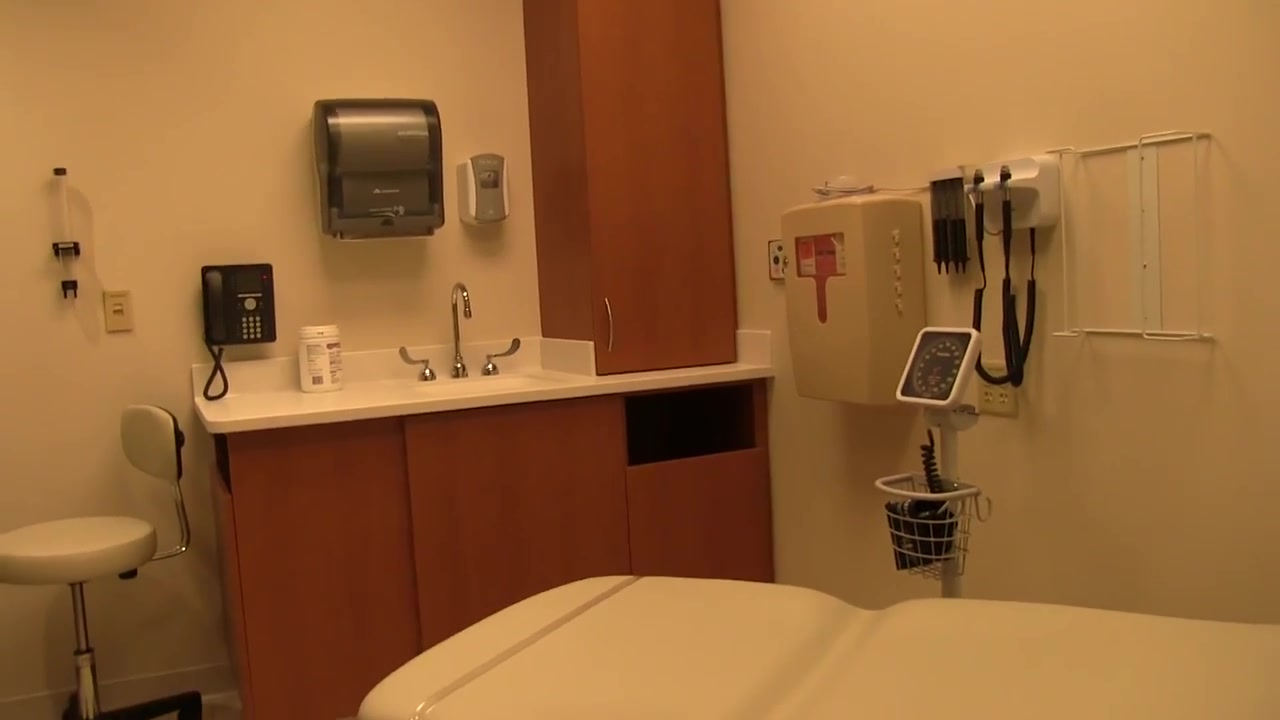cabinet: (522, 1, 741, 370)
chair: (1, 404, 200, 720)
counter: (197, 360, 772, 720)
countertop: (191, 368, 596, 433)
dispenser: (312, 98, 446, 242), (457, 154, 511, 227)
exam_table: (360, 575, 1280, 720)
faucet: (399, 283, 521, 378)
handle: (603, 297, 614, 353)
medical_waste_container: (779, 195, 929, 409)
sink: (411, 373, 549, 401)
telephone: (201, 263, 278, 345)
